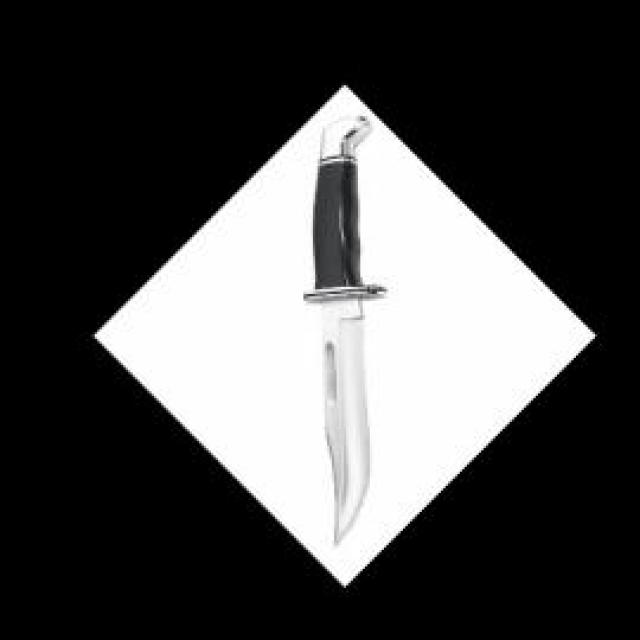knife: (318, 103, 377, 555)
